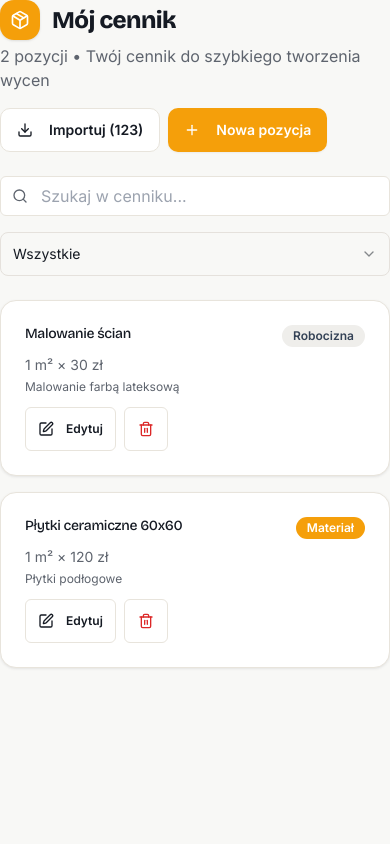
ItemTemplates › create template › should open create dialog when "Nowa pozycja" is clicked
Click the button "Nowa pozycja" at (248, 130), box 168,108 -> 327,152
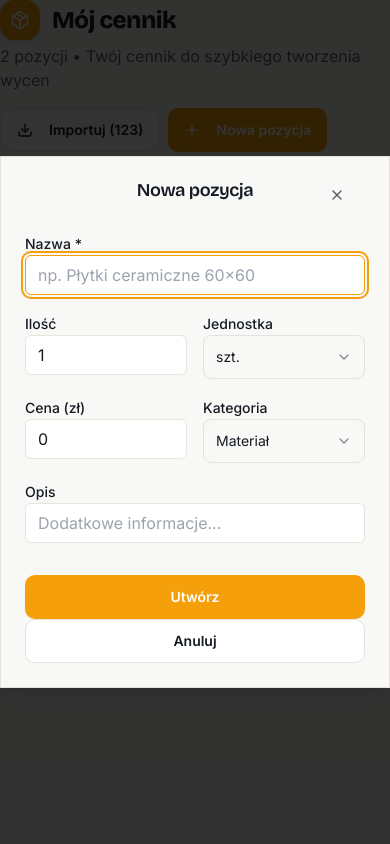
Check: the dialog is shown
